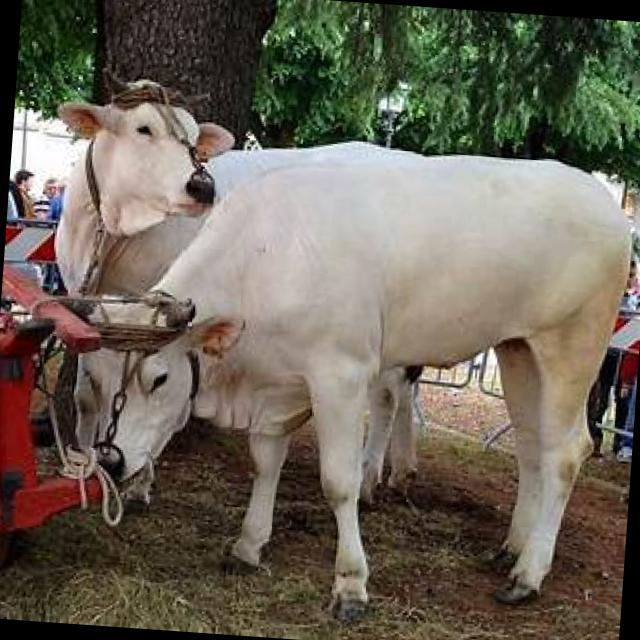cow: (31, 131, 624, 633), (49, 77, 250, 312)
